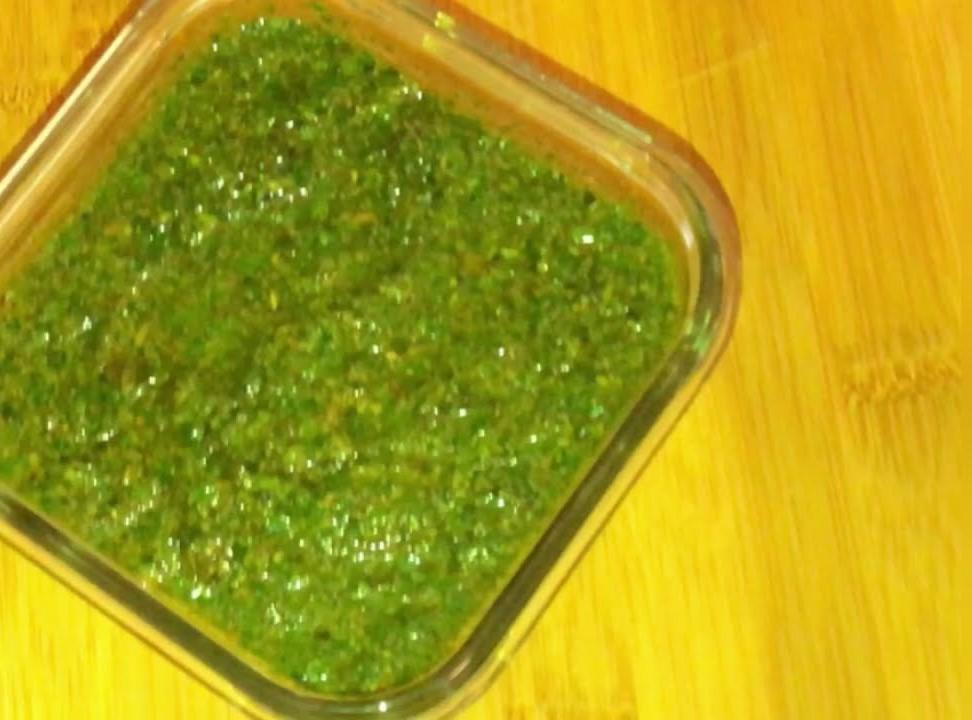GreenChutney: (0, 16, 671, 692)
